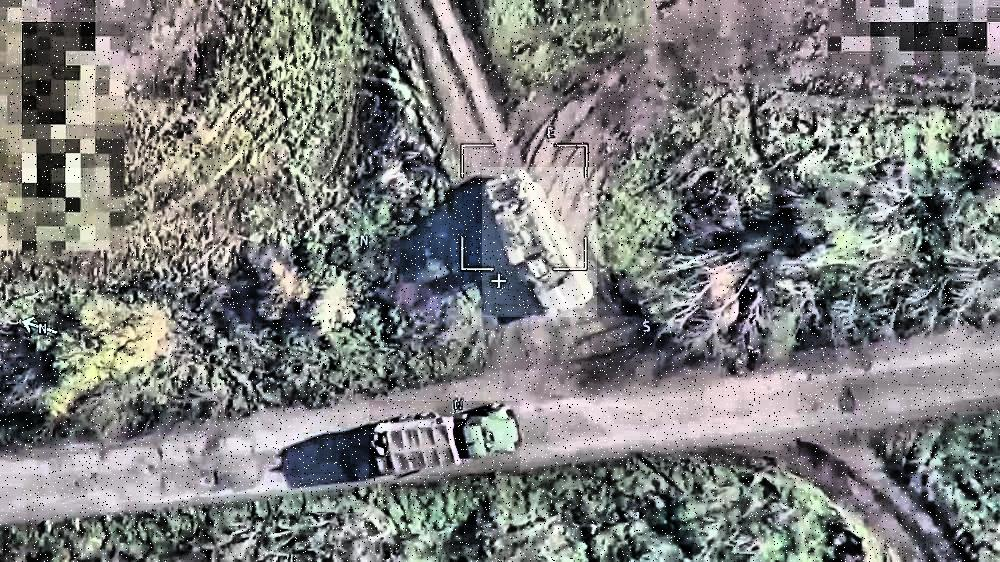military-vehicle: (483, 167, 598, 317), (370, 401, 521, 476)
